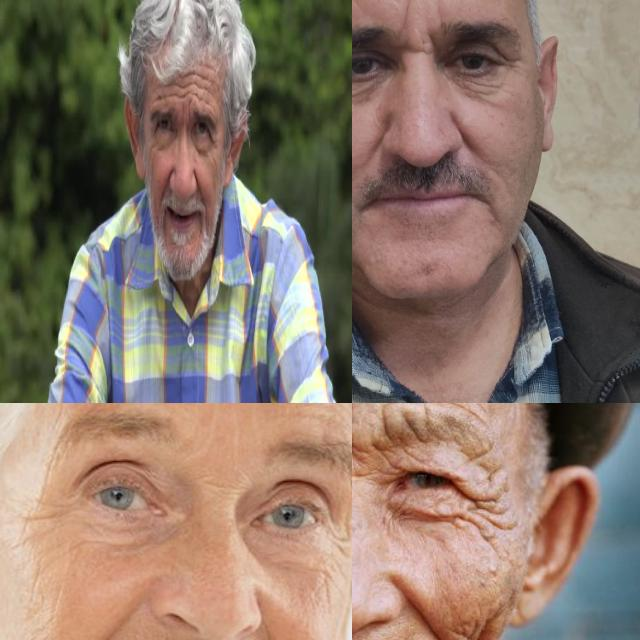crows_feet: (469, 479, 508, 536), (25, 494, 61, 524), (329, 519, 352, 551), (497, 52, 523, 74)
forehead: (411, 403, 483, 414), (195, 66, 211, 109), (179, 66, 191, 104), (155, 86, 175, 104)
frown_line: (200, 471, 242, 493), (395, 0, 418, 37), (352, 408, 358, 453)
gummy_smile: (87, 586, 141, 640), (404, 592, 454, 640), (259, 612, 294, 640), (160, 172, 170, 195), (195, 172, 204, 197)
masseter: (320, 561, 344, 609), (464, 615, 489, 640), (209, 150, 217, 168)
